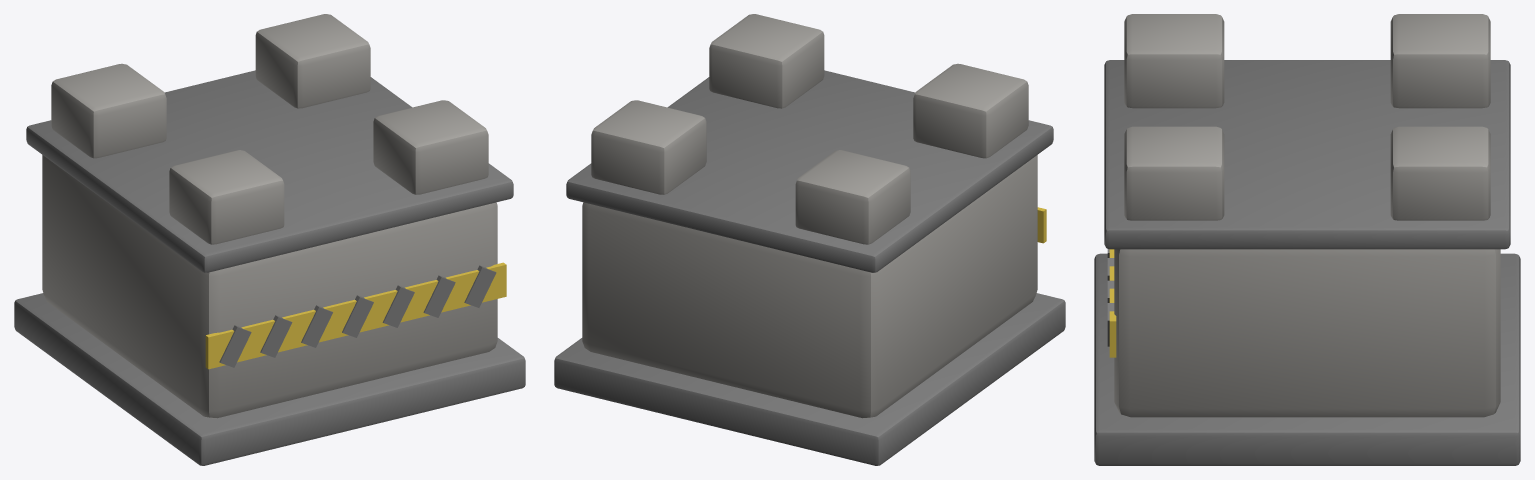
The model's file is bld_wall.glb.
The picture shows the model from 3 angles, left to right: view 1: azimuth 30°, elevation 25°; view 2: azimuth 150°, elevation 25°; view 3: azimuth 270°, elevation 25°; orthographic projection. The views are drawn at different scales.
Visible parts, largest first — view 1: block; view 2: block; view 3: block.
Boxes of the visible parts, bbox=[...] form: block: bbox=[14, 14, 525, 465]; block: bbox=[554, 14, 1065, 465]; block: bbox=[1094, 14, 1520, 465].
Size of the model in its own units: 3.2 by 2.4 by 3.2.
